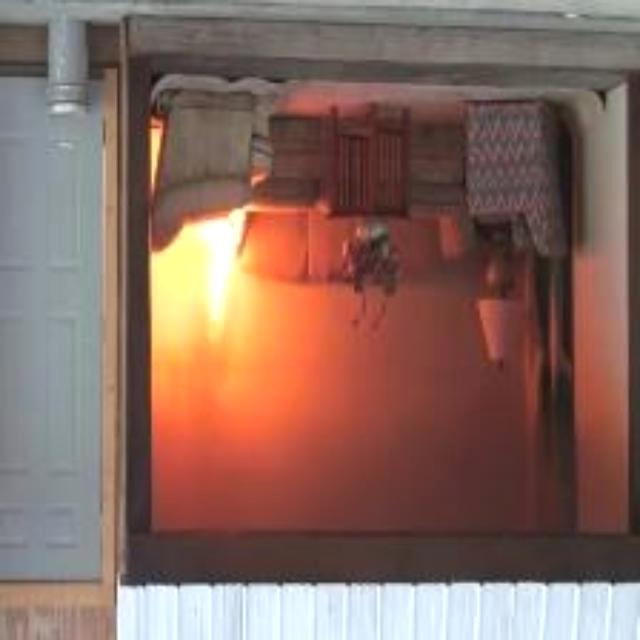fire: (161, 209, 270, 396)
